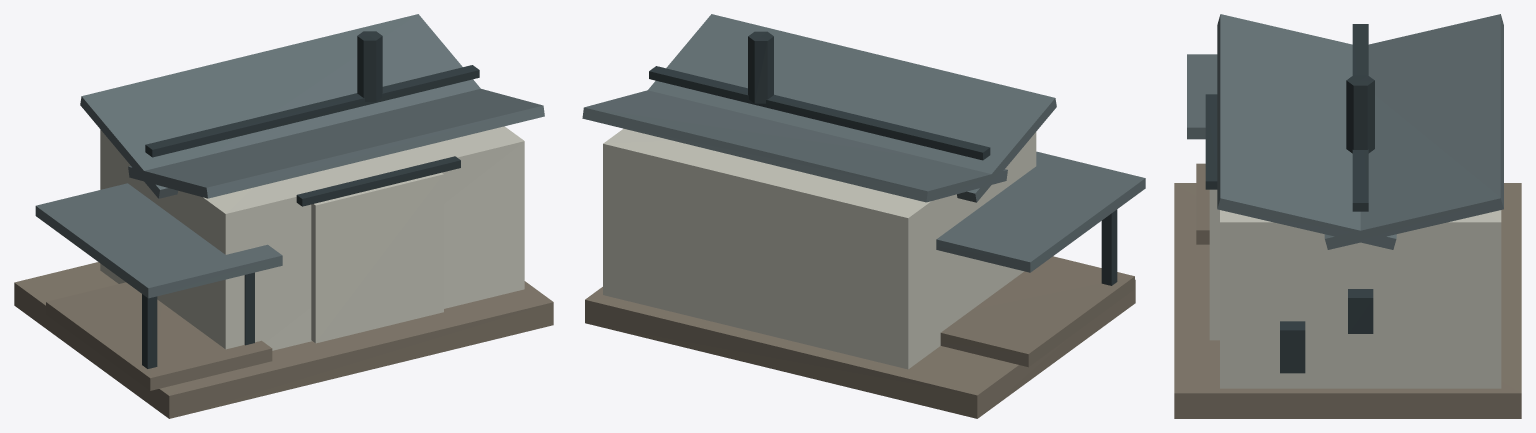
File: Veterinary-Shed.glb
3 renders of one model, left to right at view 1: azimuth 30°, elevation 25°; view 2: azimuth 150°, elevation 25°; view 3: azimuth 270°, elevation 25°, orthographic. The views are drawn at different scales.
Parts seen in each view (by area): view 1: wind-pump-static-veterinary-shed-galvanized-roof, wind-pump-static-veterinary-shed-washable-panel, wind-pump-static-veterinary-shed-stone-curb, wind-pump-static-veterinary-shed-dark-technical-frame; view 2: wind-pump-static-veterinary-shed-washable-panel, wind-pump-static-veterinary-shed-galvanized-roof, wind-pump-static-veterinary-shed-stone-curb, wind-pump-static-veterinary-shed-dark-technical-frame; view 3: wind-pump-static-veterinary-shed-galvanized-roof, wind-pump-static-veterinary-shed-washable-panel, wind-pump-static-veterinary-shed-stone-curb, wind-pump-static-veterinary-shed-dark-technical-frame.
Part boxes in pixels (<box>): wind-pump-static-veterinary-shed-galvanized-roof: <box>35,14,544,298</box>; wind-pump-static-veterinary-shed-washable-panel: <box>100,126,524,350</box>; wind-pump-static-veterinary-shed-stone-curb: <box>14,262,553,418</box>; wind-pump-static-veterinary-shed-dark-technical-frame: <box>142,31,479,368</box>; wind-pump-static-veterinary-shed-washable-panel: <box>603,128,1036,369</box>; wind-pump-static-veterinary-shed-galvanized-roof: <box>582,14,1145,272</box>; wind-pump-static-veterinary-shed-stone-curb: <box>585,256,1135,418</box>; wind-pump-static-veterinary-shed-dark-technical-frame: <box>649,31,1117,285</box>; wind-pump-static-veterinary-shed-galvanized-roof: <box>1187,14,1503,249</box>; wind-pump-static-veterinary-shed-washable-panel: <box>1209,189,1501,388</box>; wind-pump-static-veterinary-shed-stone-curb: <box>1174,163,1521,418</box>; wind-pump-static-veterinary-shed-dark-technical-frame: <box>1205,24,1374,373</box>.
Bounding box in the file's own units: 3.36 × 1.98 × 2.2.
